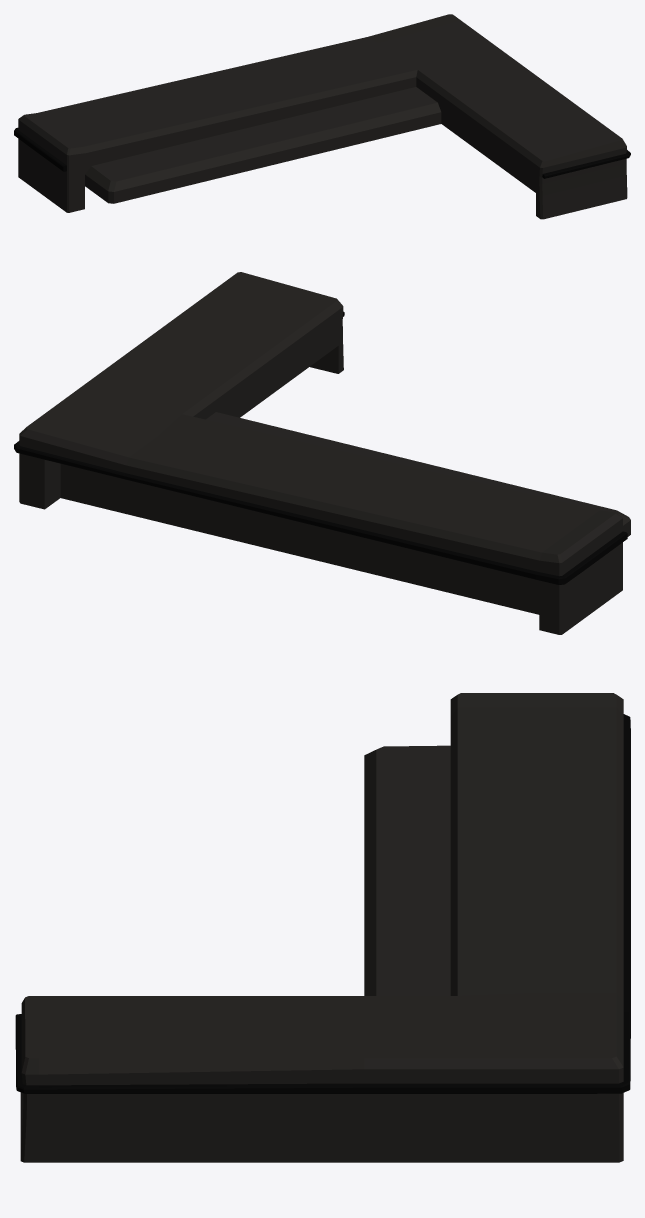
Rendered from counter.fbx.
3 renders of one model, top to bottom at view 1: azimuth 30°, elevation 25°; view 2: azimuth 150°, elevation 25°; view 3: azimuth 270°, elevation 25°, orthographic. The views are drawn at different scales.
Visible parts, largest first — view 1: counter; view 2: counter; view 3: counter.
Boxes of the visible parts, <box> form: counter: <box>14,14,630,219</box>; counter: <box>14,272,630,634</box>; counter: <box>15,693,630,1162</box>.
Bounding box in the file's own units: 508 × 93.31 × 357.
